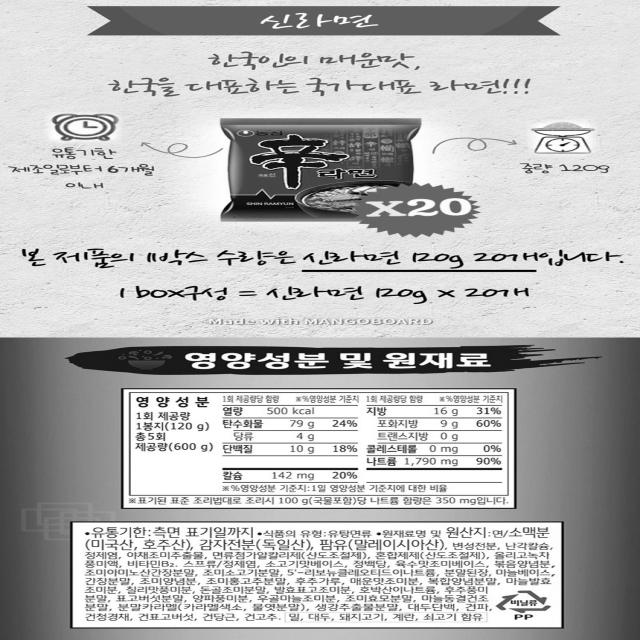Nutrition Label: (117, 378, 529, 514)
